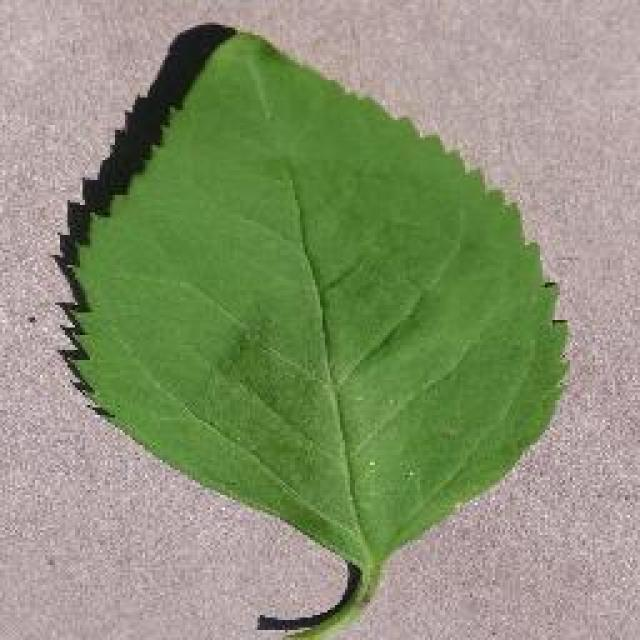Cherry___healthy: (48, 15, 580, 640)
